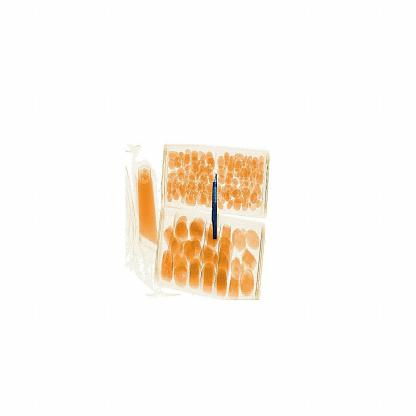pliers: (208, 161, 228, 243)
